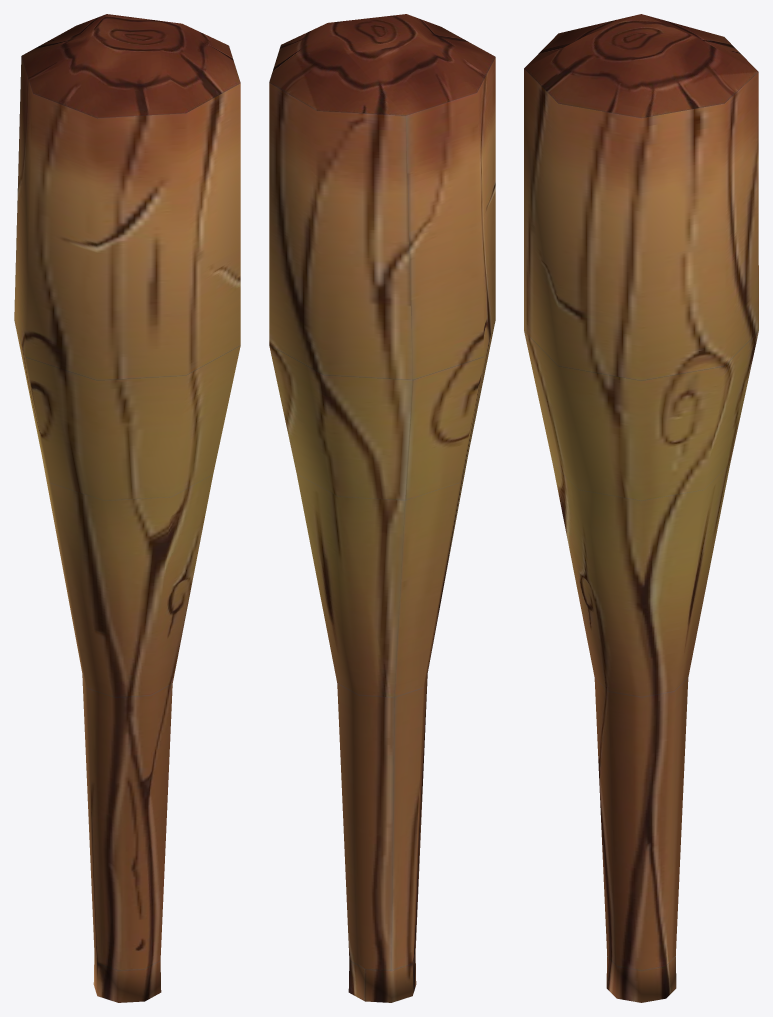
File: q_bat_webp.glb
The picture shows the model from 3 angles, left to right: view 1: azimuth 30°, elevation 25°; view 2: azimuth 150°, elevation 25°; view 3: azimuth 270°, elevation 25°; orthographic projection.
Parts seen in each view (by area): view 1: Beater_Bat_01; view 2: Beater_Bat_01; view 3: Beater_Bat_01.
Boxes of the visible parts, bbox=[...] form: Beater_Bat_01: bbox=[14, 14, 240, 1002]; Beater_Bat_01: bbox=[269, 14, 495, 1002]; Beater_Bat_01: bbox=[524, 14, 758, 1002].
Bounding box in the file's own units: 0.1338 × 0.6 × 0.1338.
Materials: 1 (1 with a texture image).
